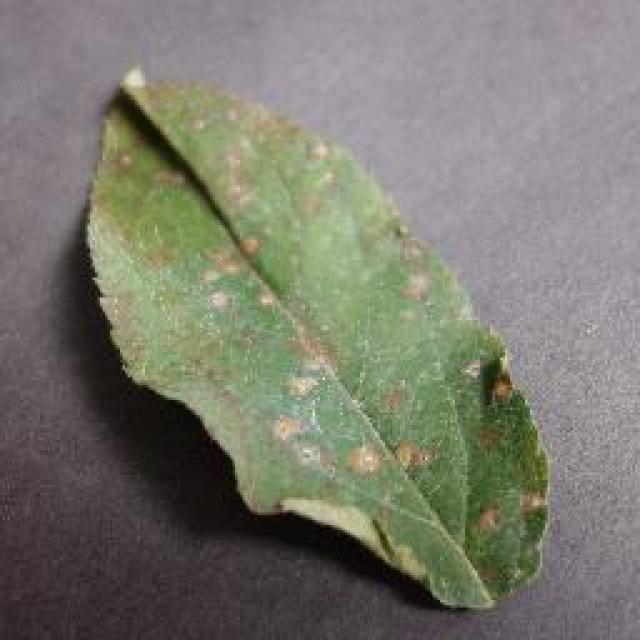apple scab disease: (82, 62, 550, 610)
